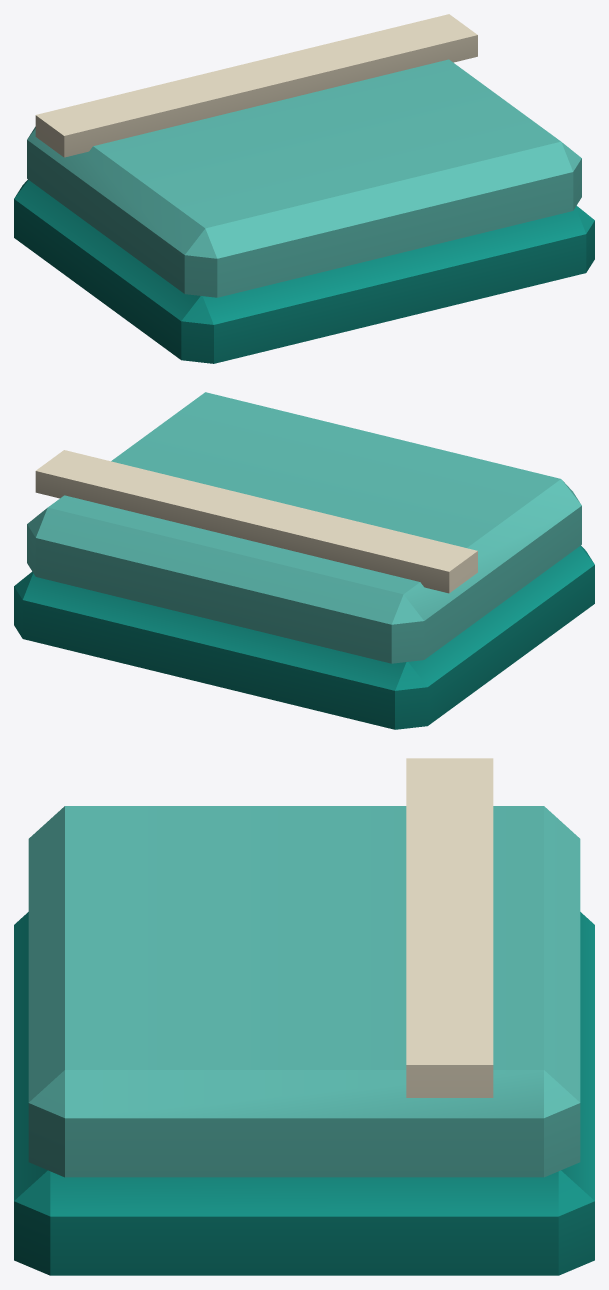
Rendered from blanket_01.glb.
The picture shows the model from 3 angles, top to bottom: view 1: azimuth 30°, elevation 25°; view 2: azimuth 150°, elevation 25°; view 3: azimuth 270°, elevation 25°; orthographic projection. The views are drawn at different scales.
Visible parts, largest first — view 1: blanket_01_mesh; view 2: blanket_01_mesh; view 3: blanket_01_mesh.
Boxes of the visible parts, box(x1,y1,x2,y2) form: blanket_01_mesh: box(14, 14, 594, 363); blanket_01_mesh: box(14, 392, 594, 729); blanket_01_mesh: box(14, 758, 594, 1275).
Size of the model in its own units: 0.5 by 0.16 by 0.4.
Materials: 1 (1 with a texture image).
